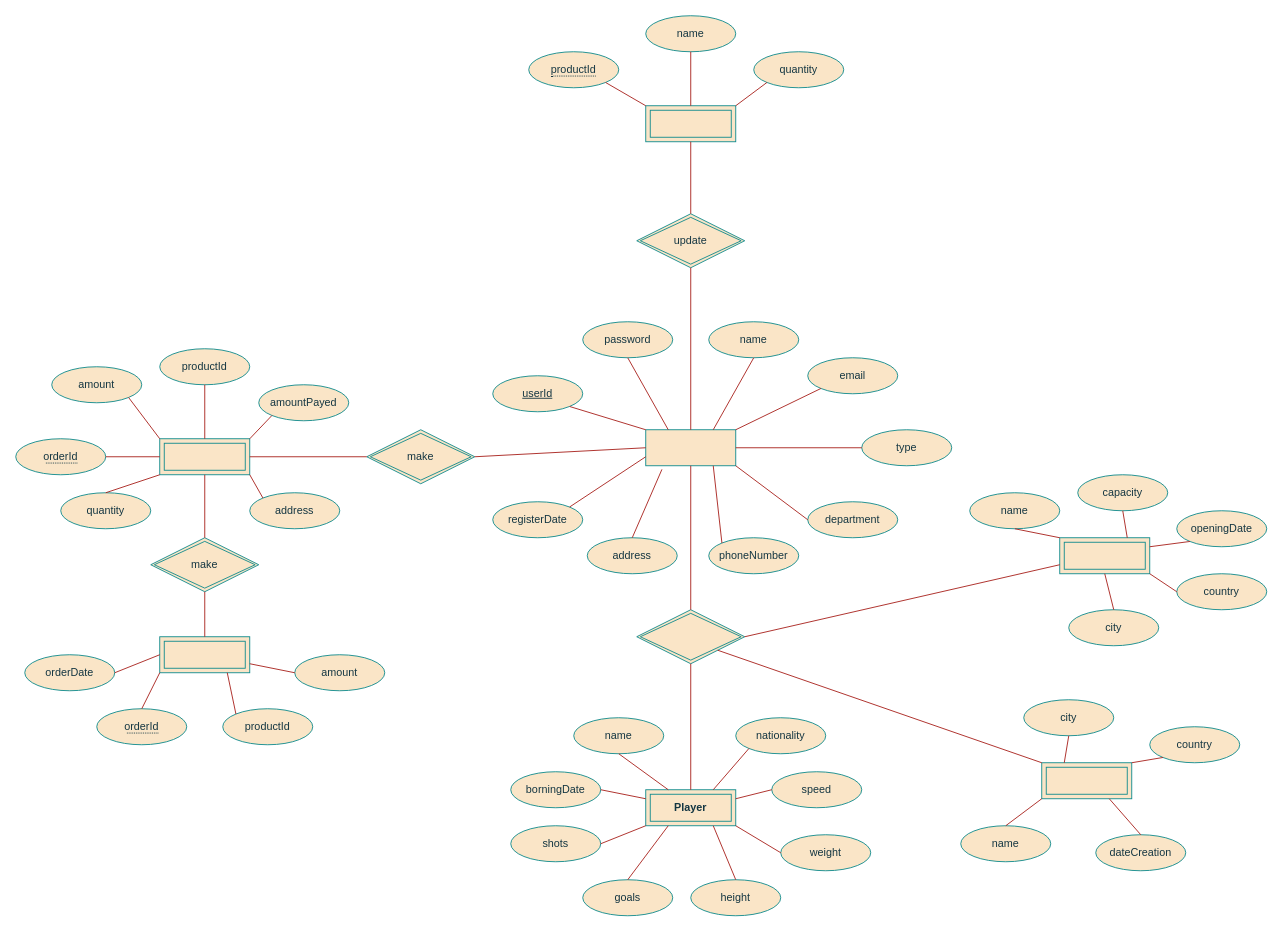
Image size: 1283x932. Some labels were removed from this diagram. Each missing label, with the box of its shape:
get/update: (636, 609, 745, 664)
Order: (159, 636, 250, 673)
OrderDetail: (159, 438, 250, 475)
Product: (645, 105, 736, 142)
Stadium: (1059, 537, 1150, 574)
Team: (1041, 762, 1132, 799)
User: (645, 429, 736, 466)
